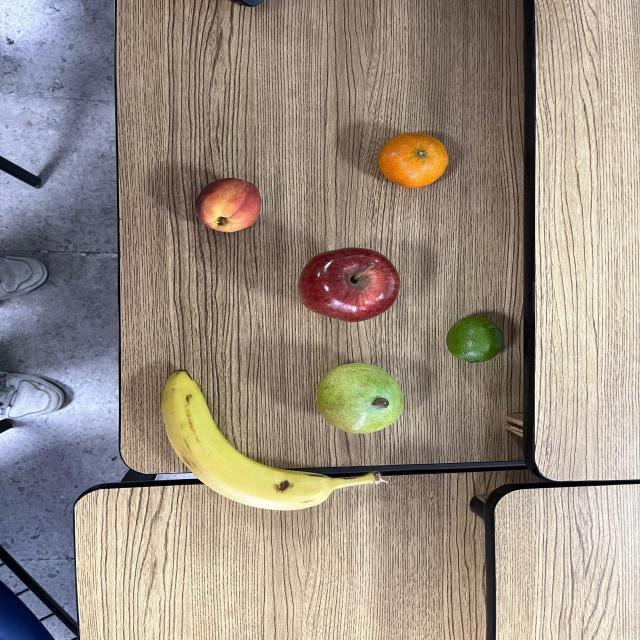Apel Gala: (192, 175, 266, 238)
Apel Granny Smith: (441, 313, 509, 370)
Apel Merah: (376, 129, 453, 189)
Lemon: (312, 358, 408, 436)
Persik: (156, 366, 390, 514)
Pisang: (296, 246, 404, 326)
